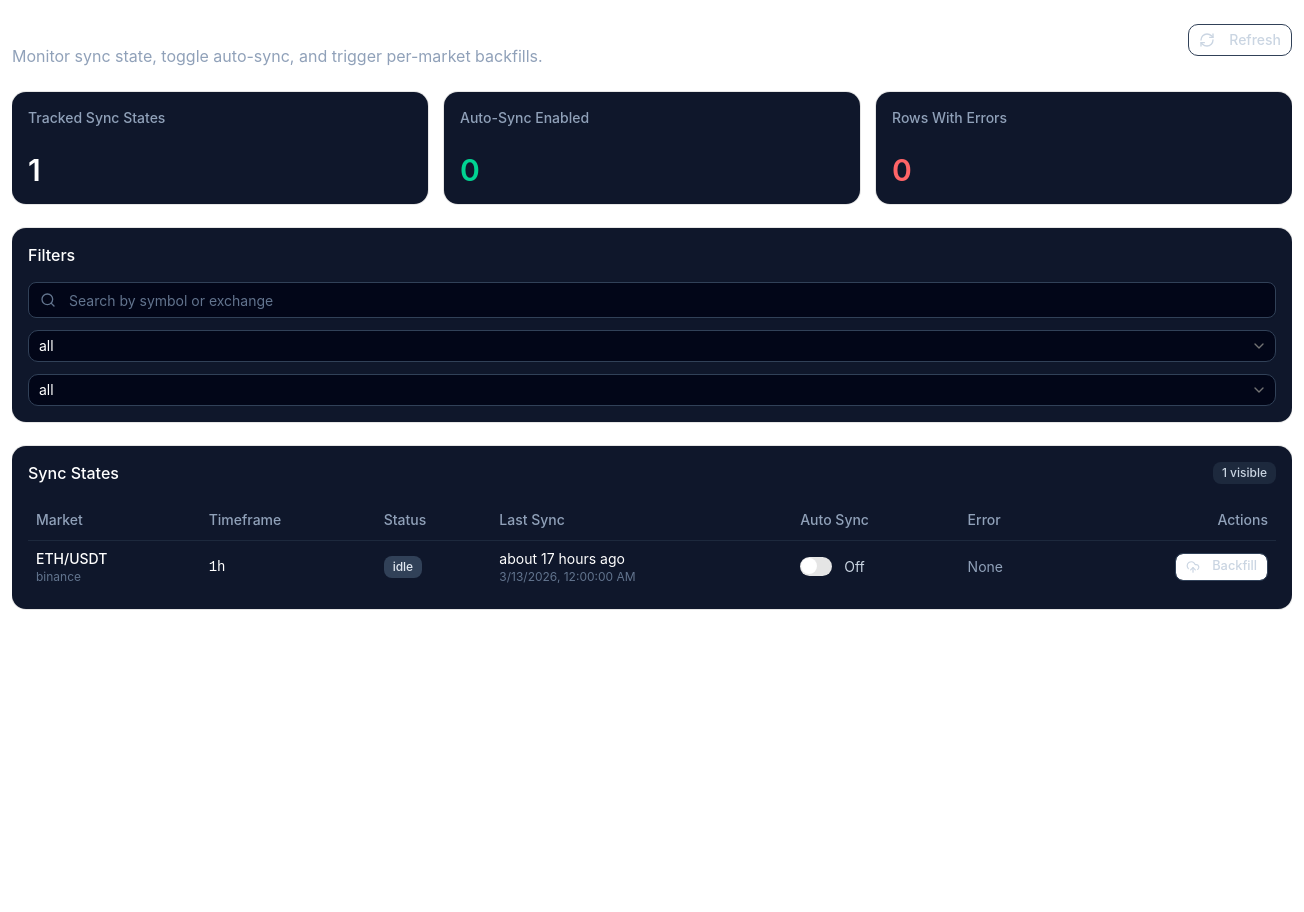
it: SyncPage › loads sync rows and starts a backfill task from the row action
Expected: the text "ETH/USDT" is shown, [36, 550, 107, 566]
Click the button "Backfill": (1222, 566) [1175, 552, 1268, 580]
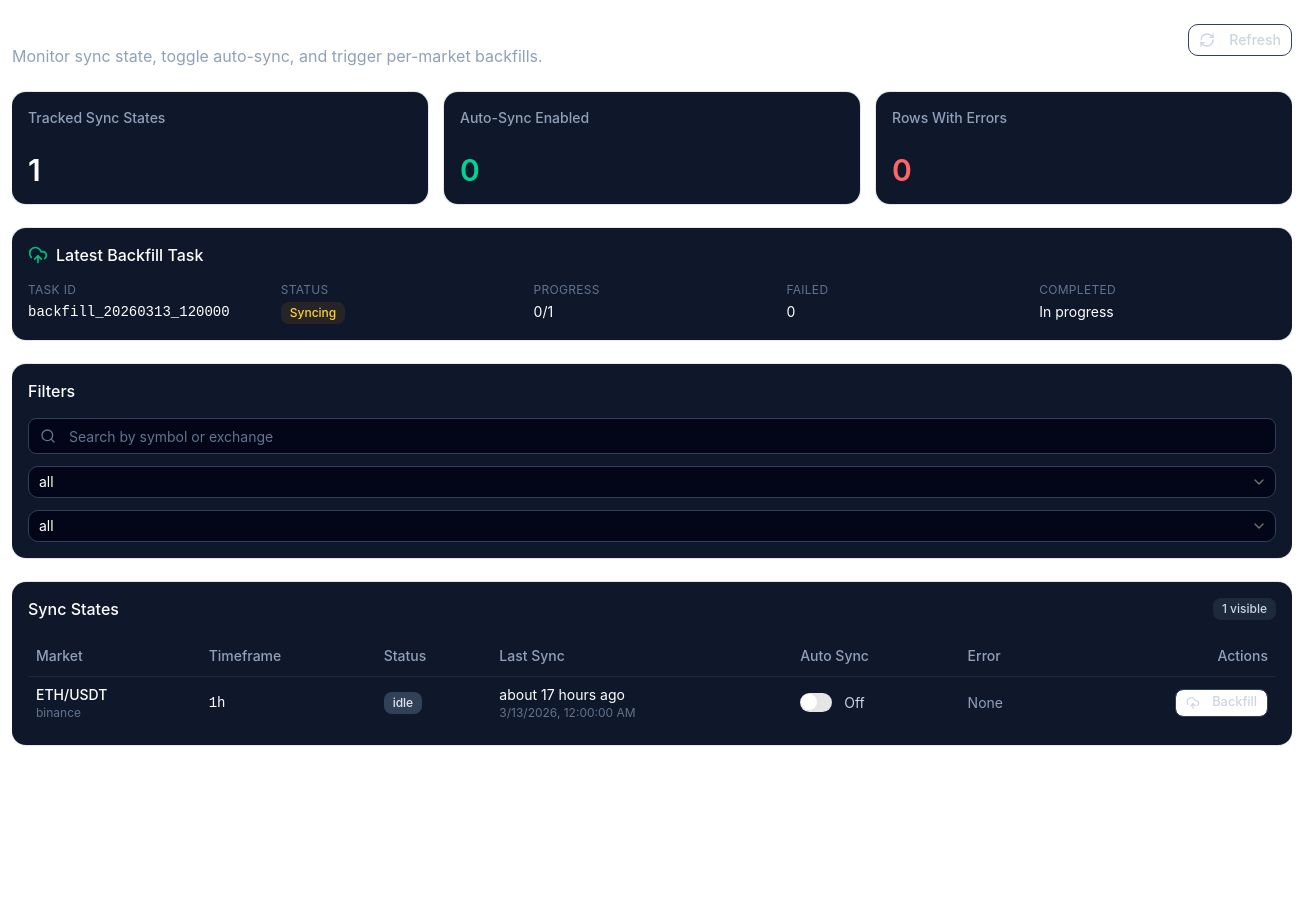
Now the text "Latest Backfill Task" is shown, box [28, 245, 203, 265]
Now the text "backfill_20260313_120000" is shown, box [28, 302, 265, 322]
